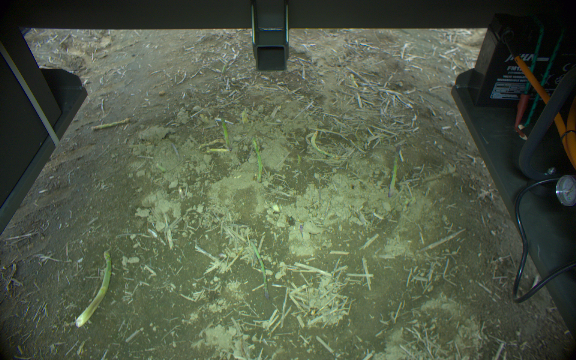aspa: (74, 249, 114, 326), (247, 240, 270, 299), (308, 129, 340, 159), (389, 143, 403, 195), (90, 117, 131, 131), (252, 138, 264, 182), (219, 113, 229, 149)
